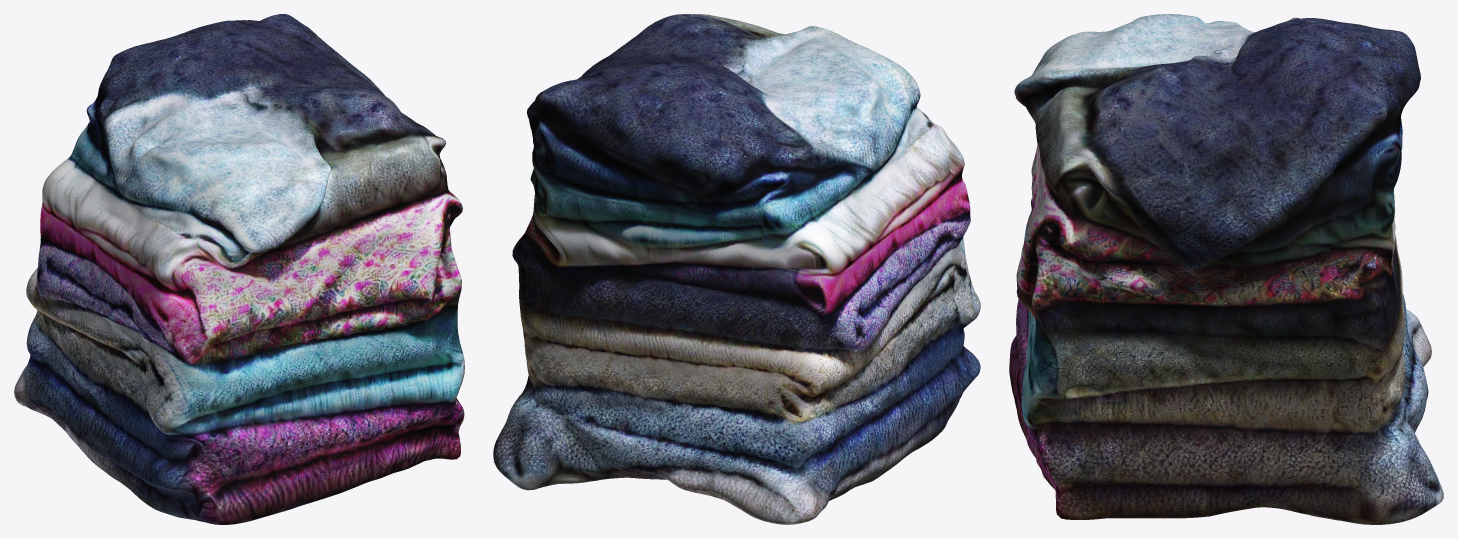
File: pile_of_clothes.glb
The picture shows the model from 3 angles, left to right: view 1: azimuth 30°, elevation 25°; view 2: azimuth 150°, elevation 25°; view 3: azimuth 270°, elevation 25°; orthographic projection. The views are drawn at different scales.
Visible parts, largest first — view 1: default_008-material; view 2: default_008-material; view 3: default_008-material.
Part boxes in pixels (box(x1,y1,x2,y2)): default_008-material: box(14, 14, 464, 524); default_008-material: box(493, 14, 980, 524); default_008-material: box(1009, 14, 1443, 524).
Size of the model in its own units: 1.23 by 1.3 by 1.23.
1 material, 1 textured.
